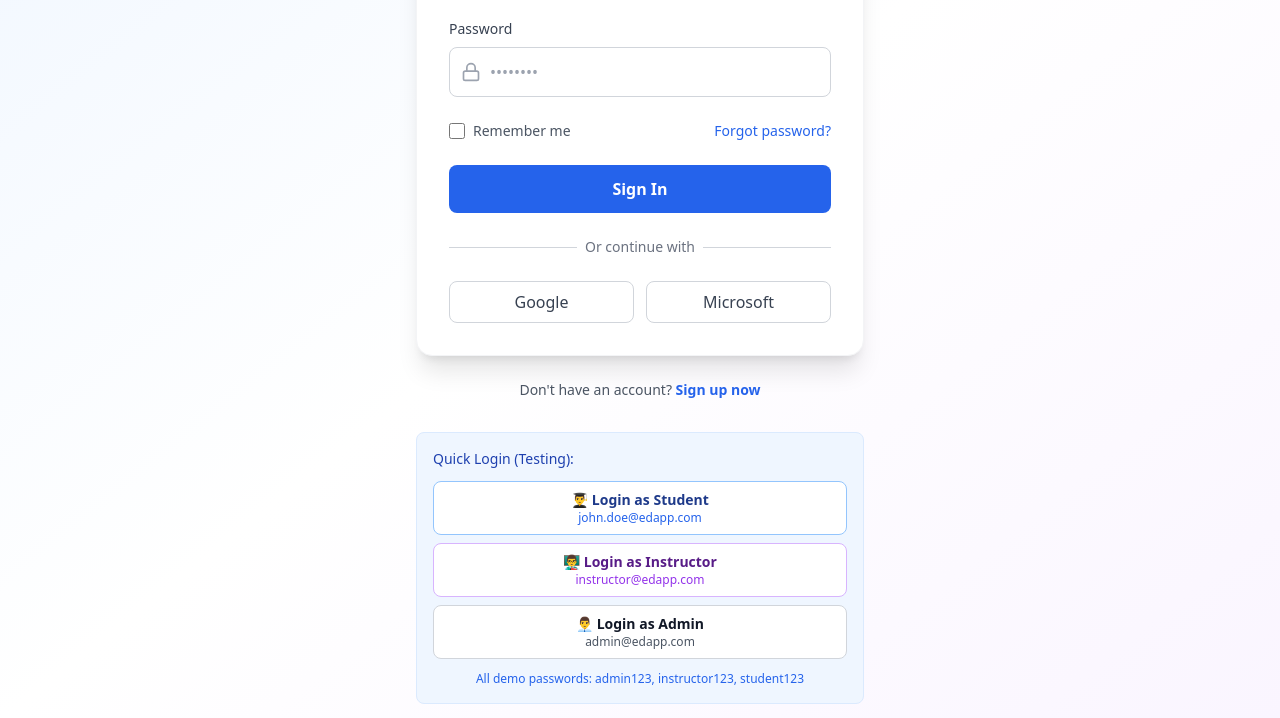
Test case: Login Flow › quick login as student works
(page scrolled)
Click the button "👨‍🎓 Login as Student john.doe@edapp.com". click: (640, 508)
box: [433, 481, 847, 535]
(page scrolled)
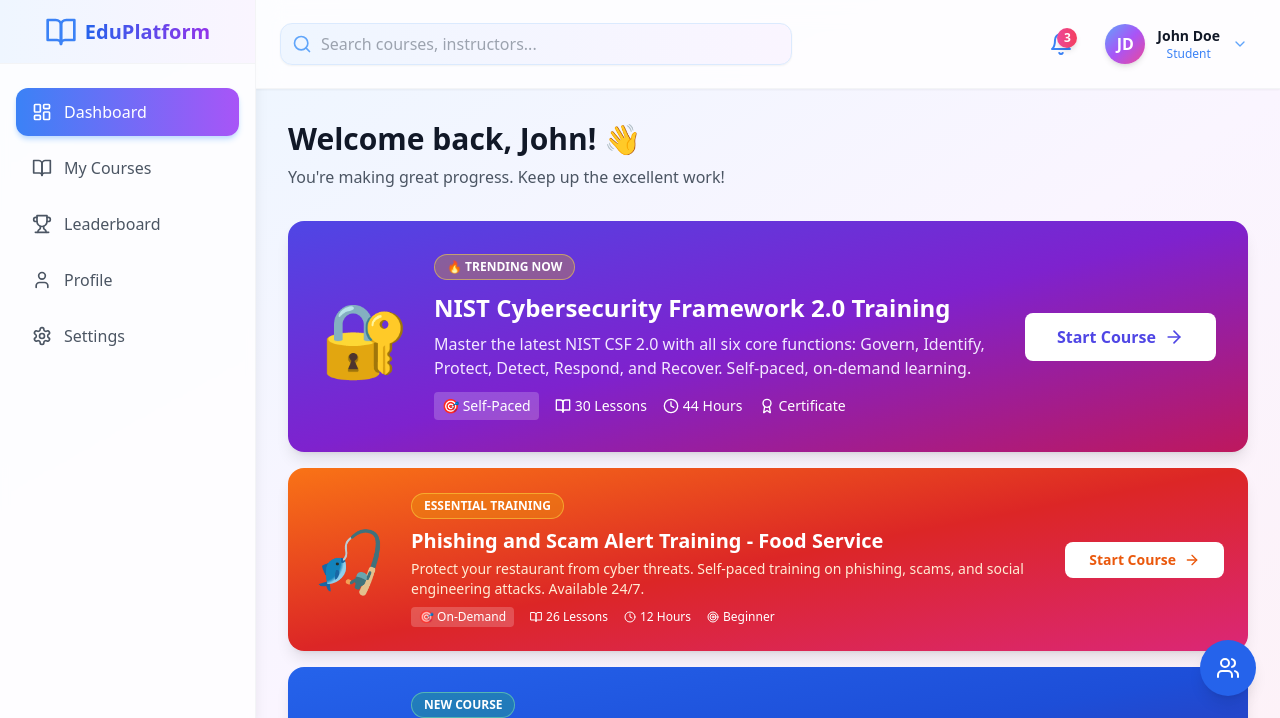
Now the heading "Welcome back, John! 👋" is shown, box [288, 118, 641, 159]
